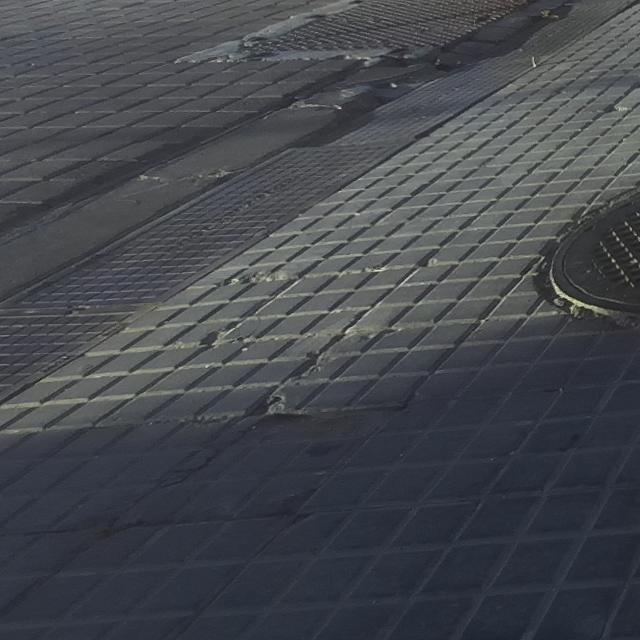calcada_quebrada: (157, 425, 252, 487)
